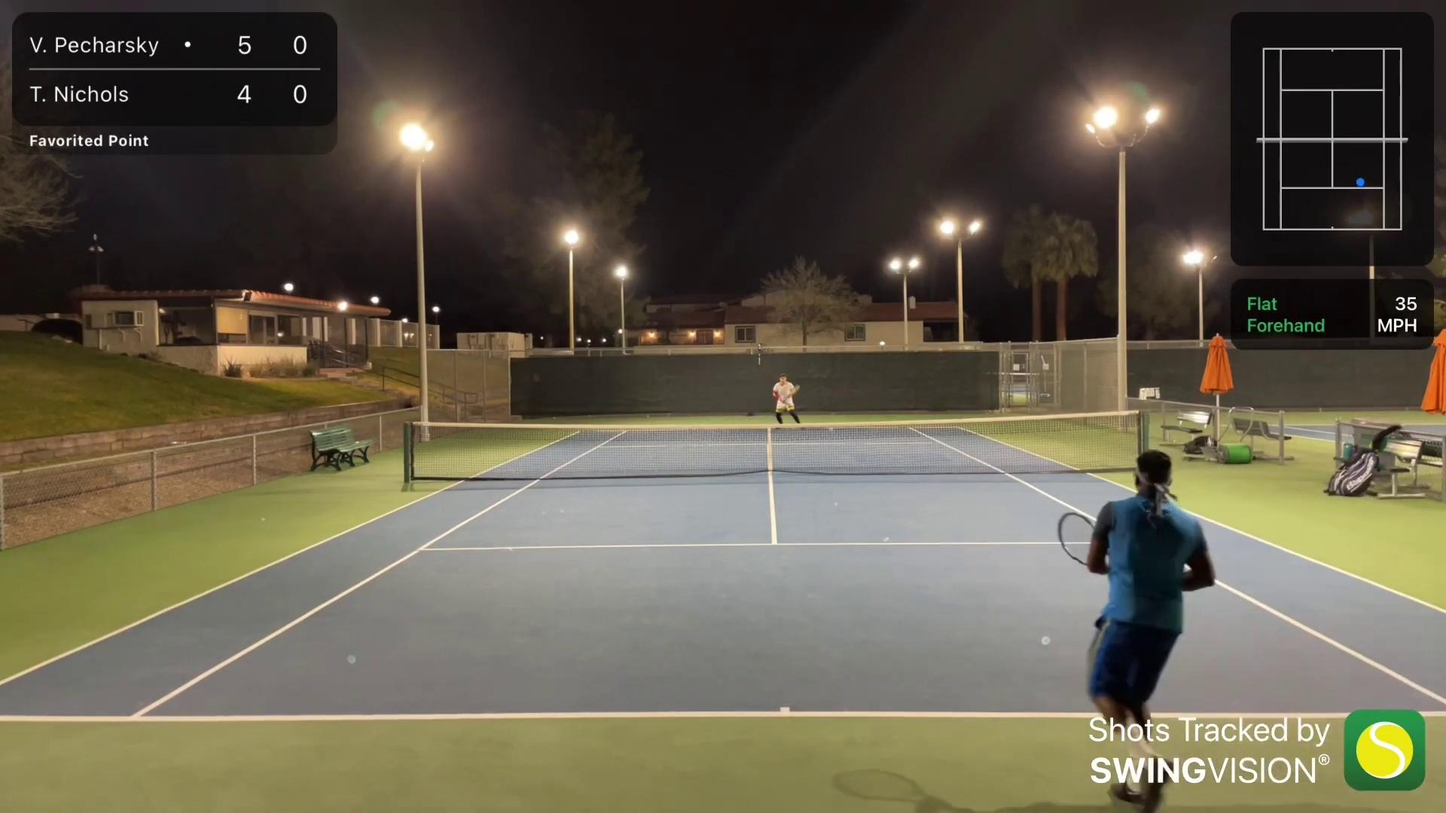ball: (825, 423, 839, 435)
